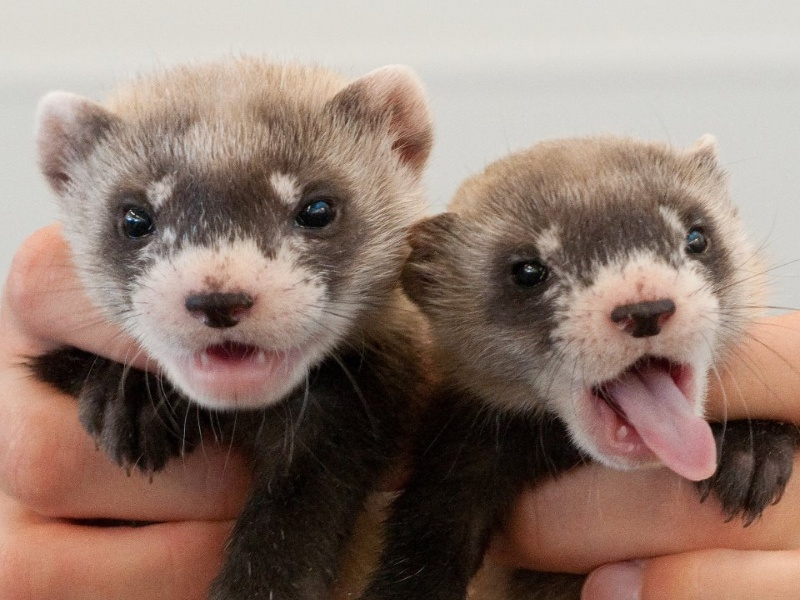minkish: (27, 58, 433, 587), (383, 129, 762, 594)
